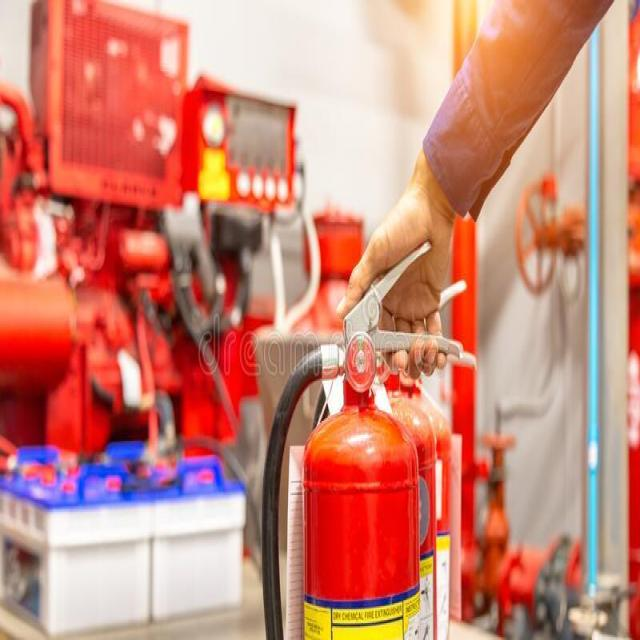fire_extinguisher: (254, 232, 466, 638), (304, 273, 481, 638)
